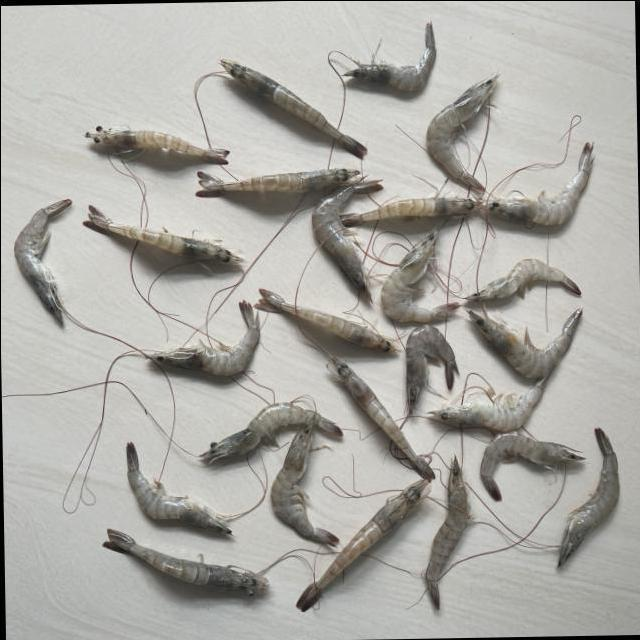shrimp: (296, 480, 431, 612), (220, 58, 367, 158), (327, 357, 435, 481), (102, 529, 268, 596), (125, 442, 230, 535), (82, 205, 243, 264), (253, 288, 398, 351), (270, 415, 338, 547), (488, 142, 595, 225), (426, 72, 499, 190), (200, 403, 343, 463), (559, 428, 620, 568), (312, 180, 382, 300), (146, 301, 258, 375), (469, 308, 583, 378), (381, 226, 460, 323), (481, 431, 586, 501), (13, 198, 70, 326), (425, 457, 470, 610), (430, 375, 550, 432), (344, 21, 437, 90), (84, 125, 228, 163), (466, 258, 582, 300), (406, 325, 459, 415), (195, 168, 362, 196), (340, 197, 481, 226)
